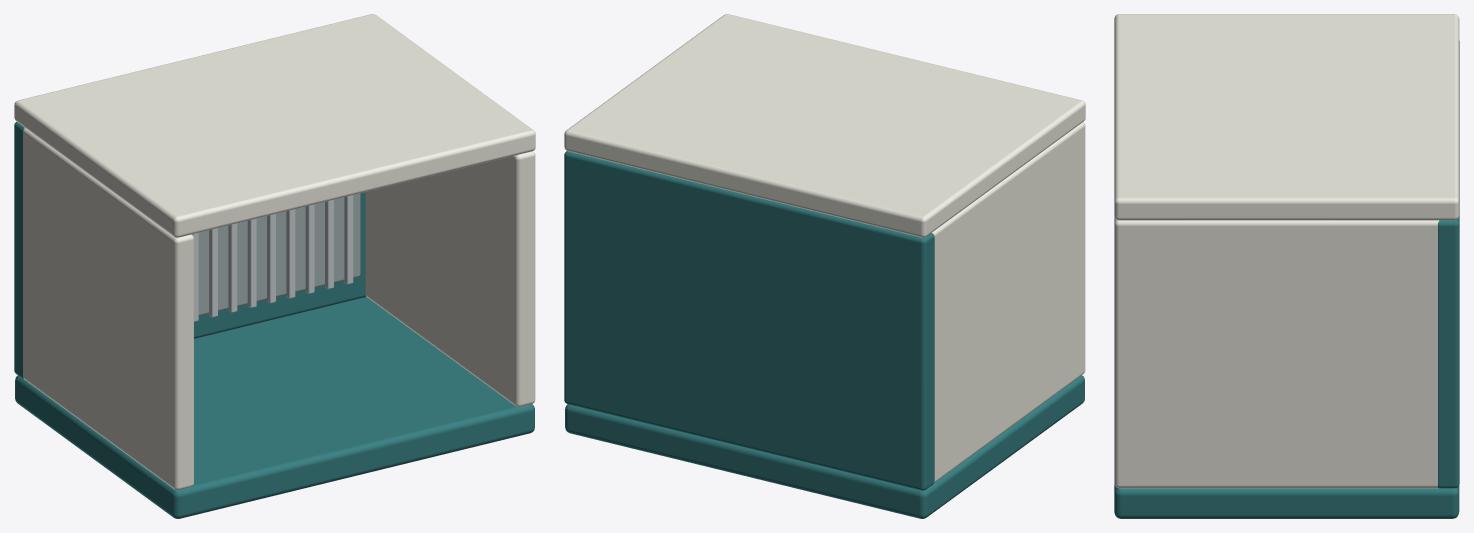
The model's file is tabletop-hobby-store-and-club-filtered-spray-booth-7b1d95a6__31599.glb.
3 views of the same model, side by side, from view 1: azimuth 30°, elevation 25°; view 2: azimuth 150°, elevation 25°; view 3: azimuth 270°, elevation 25° (orthographic). The views are drawn at different scales.
Parts seen in each view (by area): view 1: filtered-spray-booth; view 2: filtered-spray-booth; view 3: filtered-spray-booth.
Part boxes in pixels (x1,y1,x2,y2): filtered-spray-booth: (14, 14, 535, 518); filtered-spray-booth: (564, 14, 1085, 518); filtered-spray-booth: (1114, 14, 1459, 518).
Size of the model in its own units: 0.45 by 0.36 by 0.3505.
